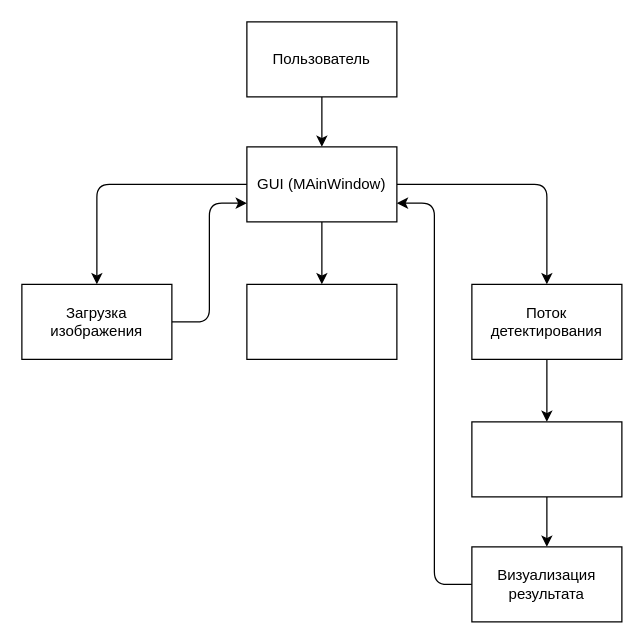
Image size: 644x644. Some labels were removed from this diagram. The shapes that lost their labels are listed below. From the top down, each one's centre as x and y in pixels, then its label:
the point at 321,321: Менеджер настроек
the point at 546,459: Модуль детектирования
